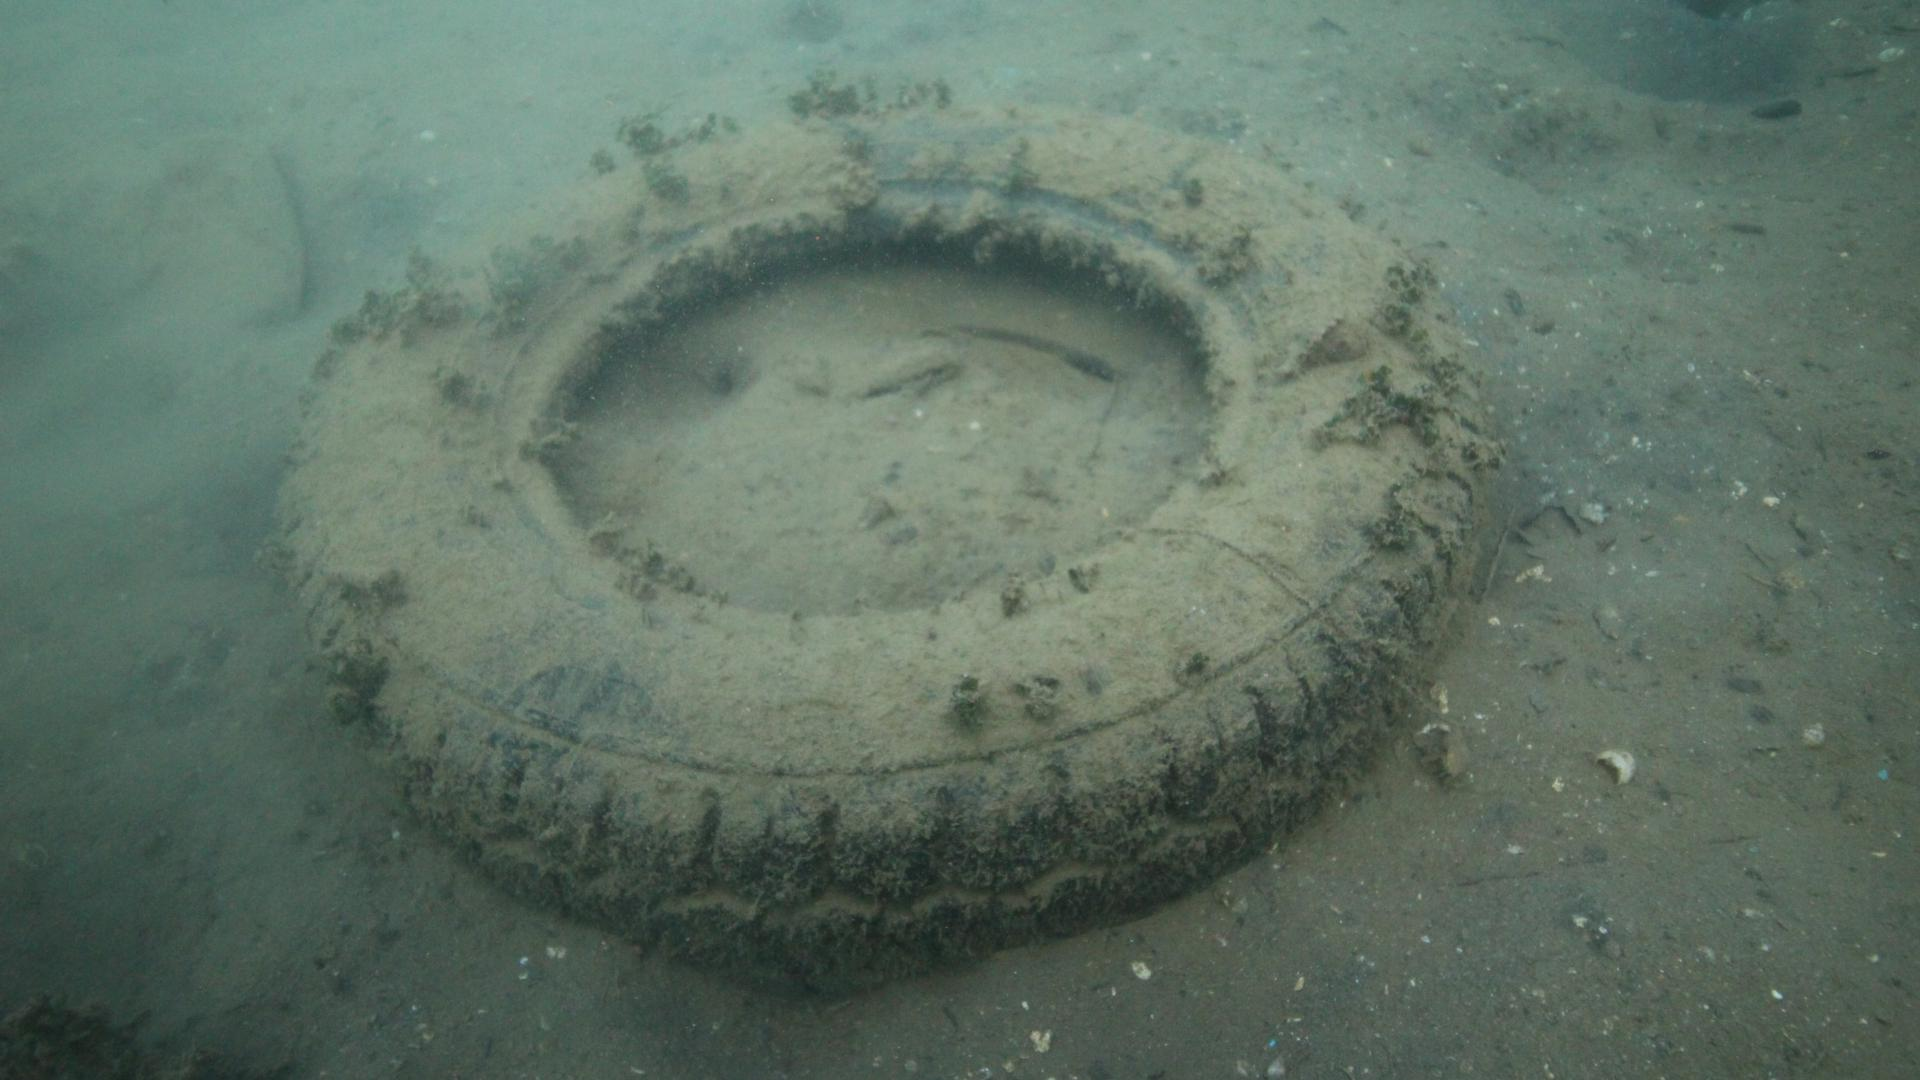tire: (269, 100, 1491, 996)
